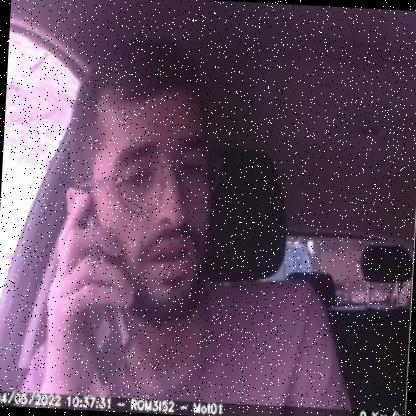phone: (60, 198, 146, 392)
